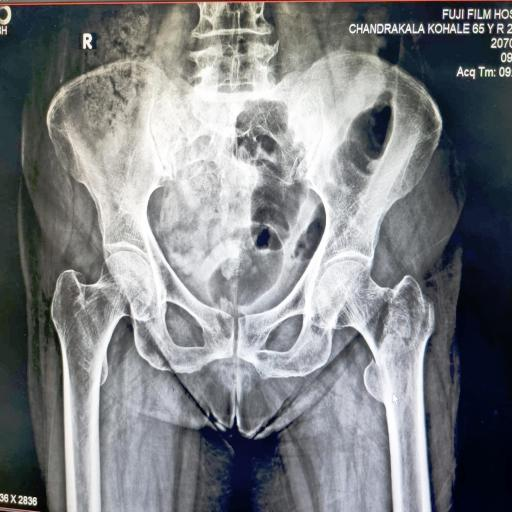neck: (363, 274, 437, 441), (318, 261, 395, 360)
normal: (50, 250, 155, 427)
